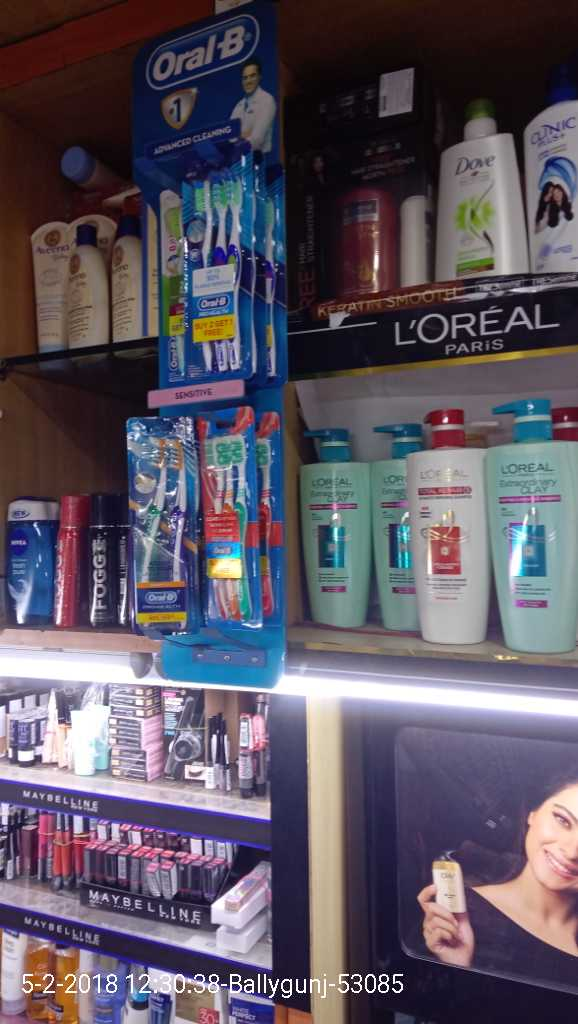oralb: (199, 433, 283, 632), (179, 176, 261, 374), (124, 427, 186, 613)
